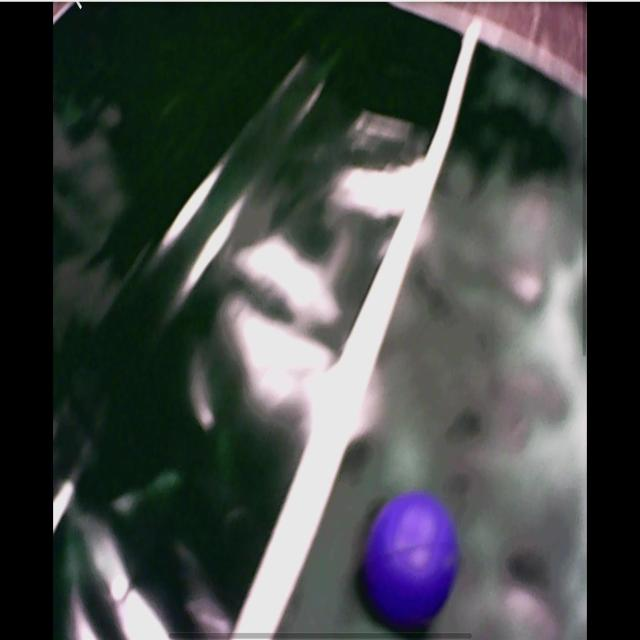ball: (368, 493, 459, 624)
